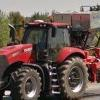Tractor: (3, 15, 93, 100)
